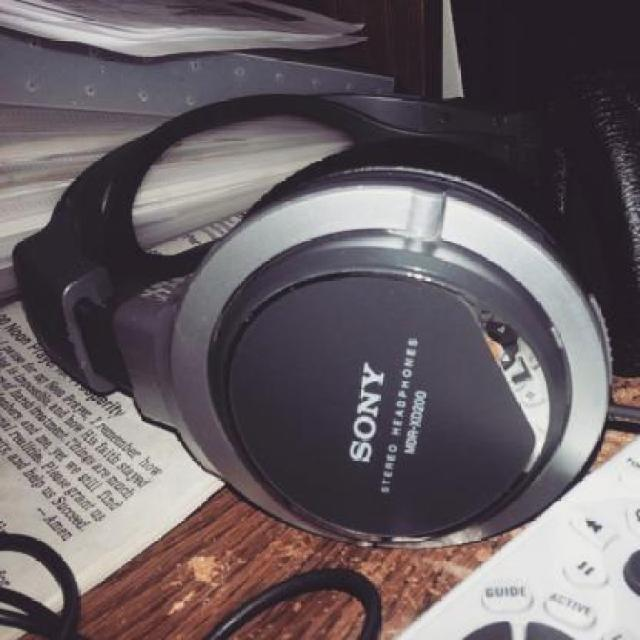earphone: (47, 87, 615, 535)
